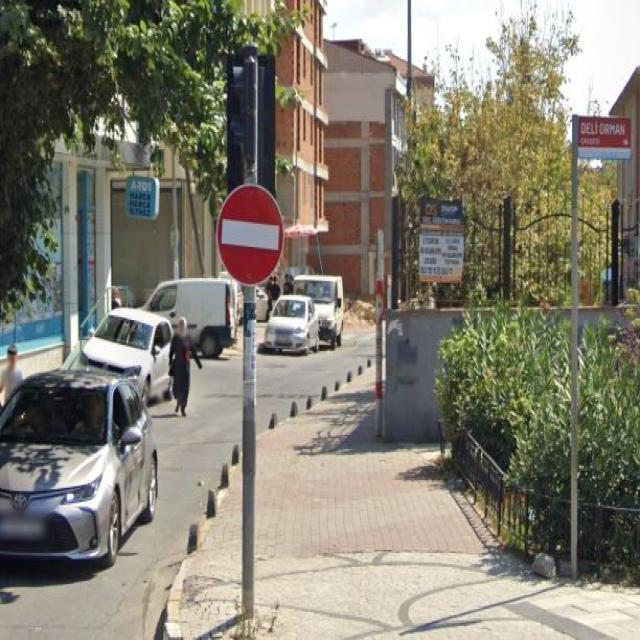girisyok: (217, 183, 284, 284)
